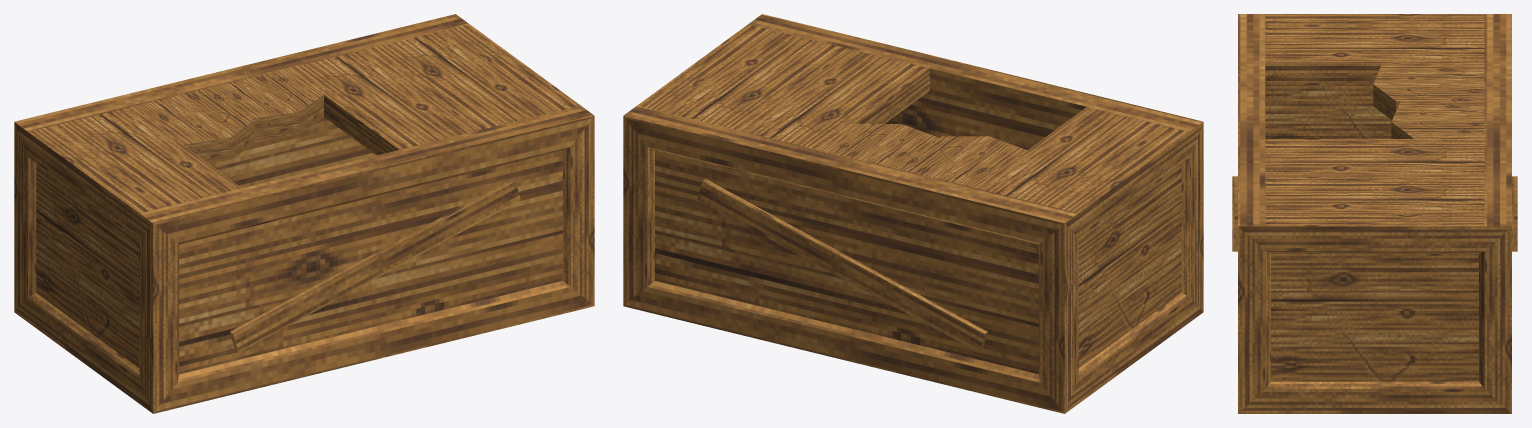
File: Cassa_05_Lunga_Rotta.obj
3 views of the same model, side by side, from view 1: azimuth 30°, elevation 25°; view 2: azimuth 150°, elevation 25°; view 3: azimuth 270°, elevation 25° (orthographic).
Parts seen in each view (by area): view 1: Cassa_05_Lunga_Rotta; view 2: Cassa_05_Lunga_Rotta; view 3: Cassa_05_Lunga_Rotta.
Boxes of the visible parts, box(x1,y1,x2,y2) form: Cassa_05_Lunga_Rotta: box(14, 14, 594, 413); Cassa_05_Lunga_Rotta: box(623, 14, 1203, 413); Cassa_05_Lunga_Rotta: box(1232, 14, 1517, 413).
Size of the model in its own units: 1.65 by 0.68 by 0.938.
